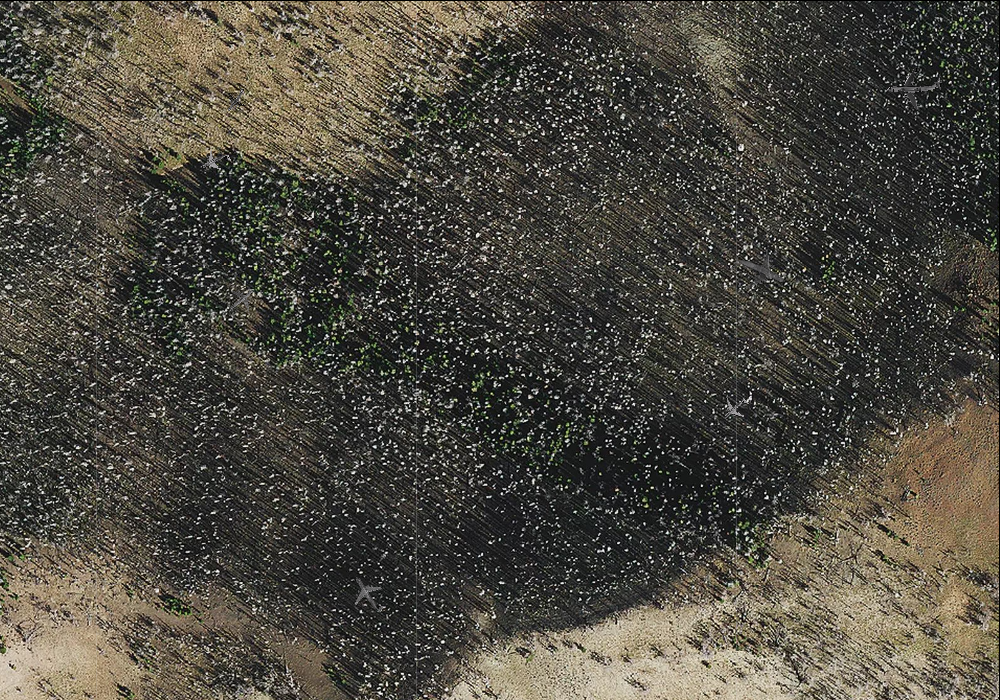plane: (722, 236, 795, 306), (341, 566, 396, 622), (886, 59, 942, 112), (220, 279, 261, 320), (715, 389, 755, 429), (194, 142, 235, 181), (216, 80, 253, 118)
